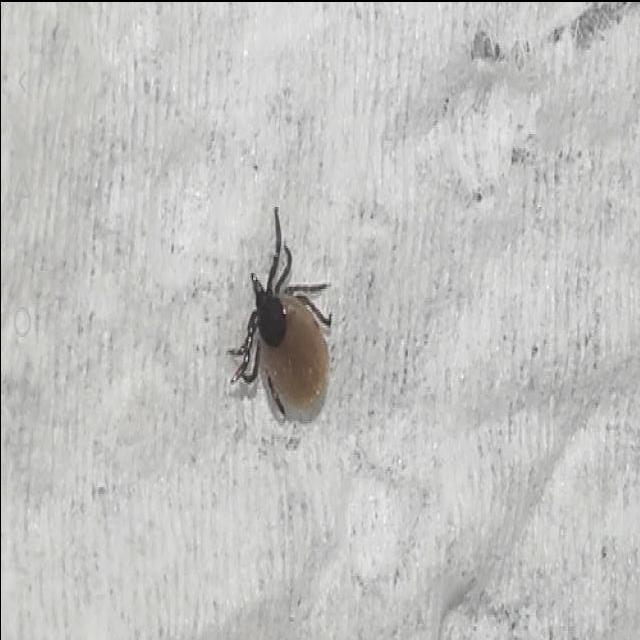Ixodes Ricinus-F-Fed: (228, 210, 329, 424)
